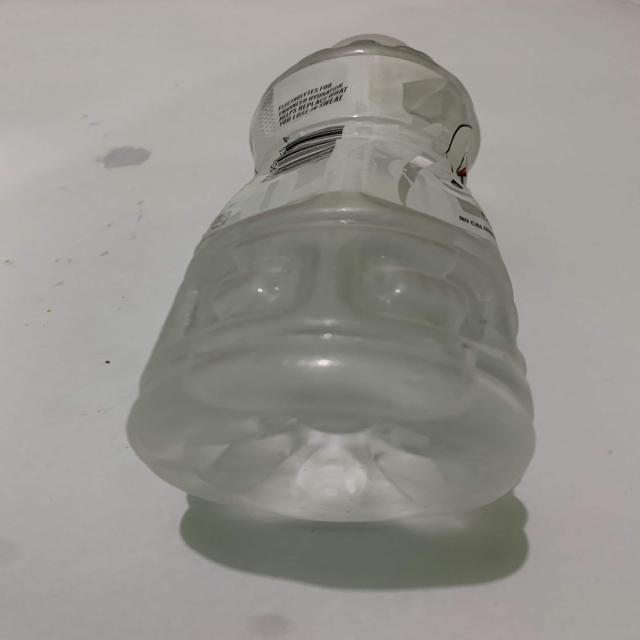litter: (134, 8, 549, 531)
